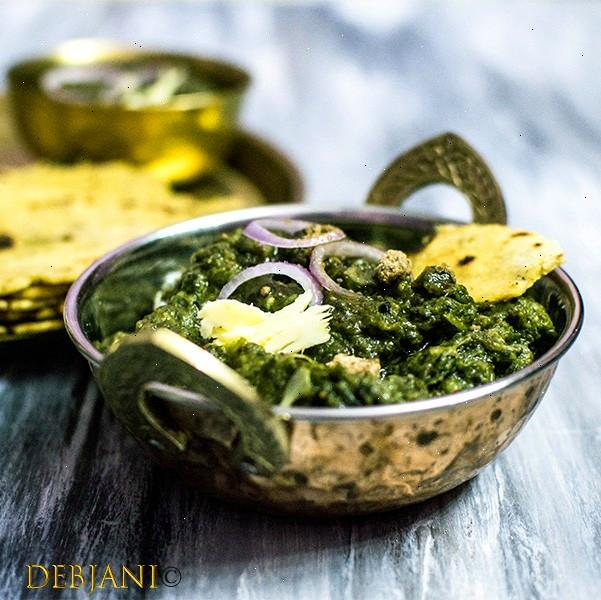saag: (176, 229, 542, 404)
